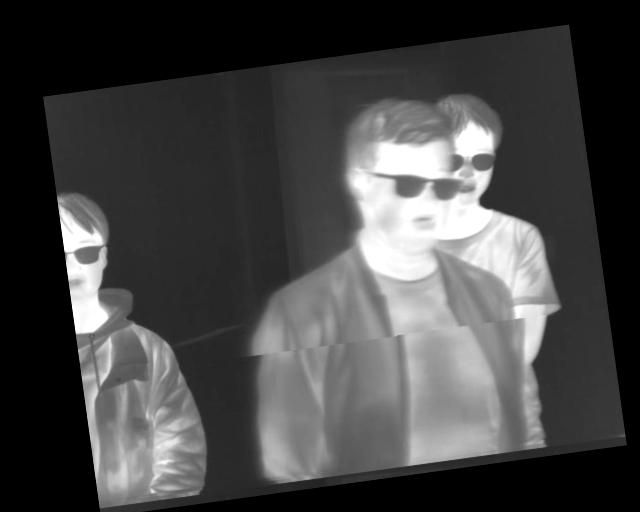face: (335, 88, 463, 261), (434, 85, 513, 205), (57, 185, 118, 302)
